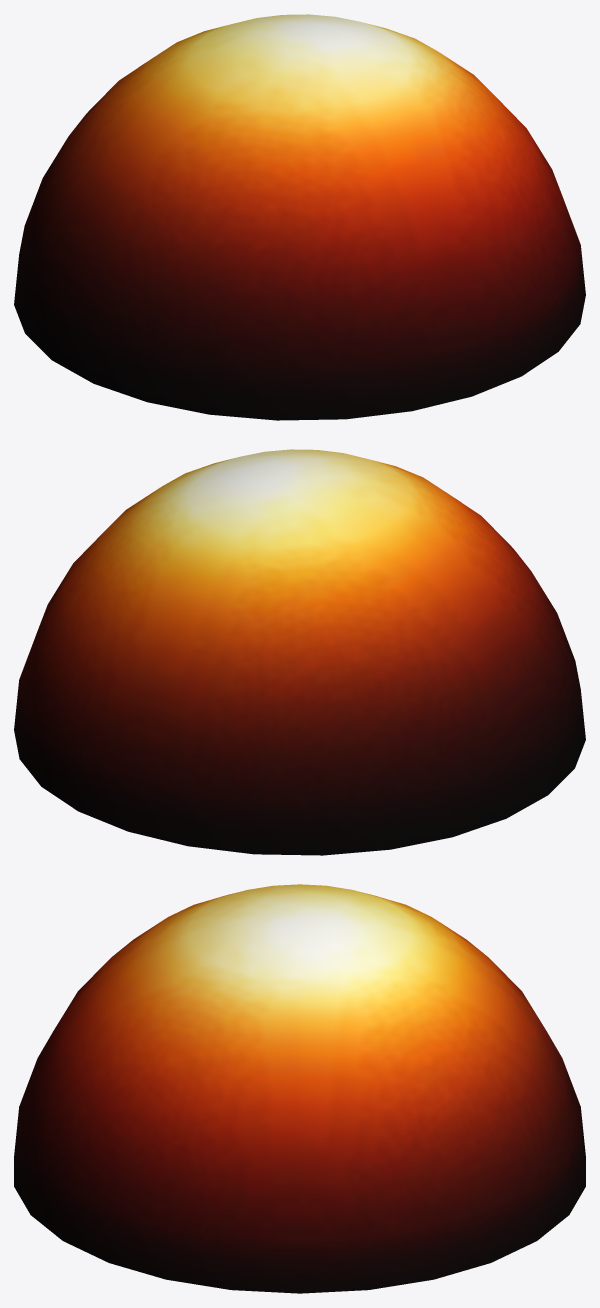
File: E3D-Hemisphere29.FBX
3 renders of one model, top to bottom at view 1: azimuth 30°, elevation 25°; view 2: azimuth 150°, elevation 25°; view 3: azimuth 270°, elevation 25°, orthographic.
Parts seen in each view (by area): view 1: Cylinder001; view 2: Cylinder001; view 3: Cylinder001.
Part boxes in pixels (x1,y1,x2,y2): Cylinder001: (14, 14, 585, 420); Cylinder001: (14, 449, 585, 855); Cylinder001: (14, 884, 585, 1293).
Bounding box in the file's own units: 7845 × 3909 × 7787.
1 material, 1 textured.
